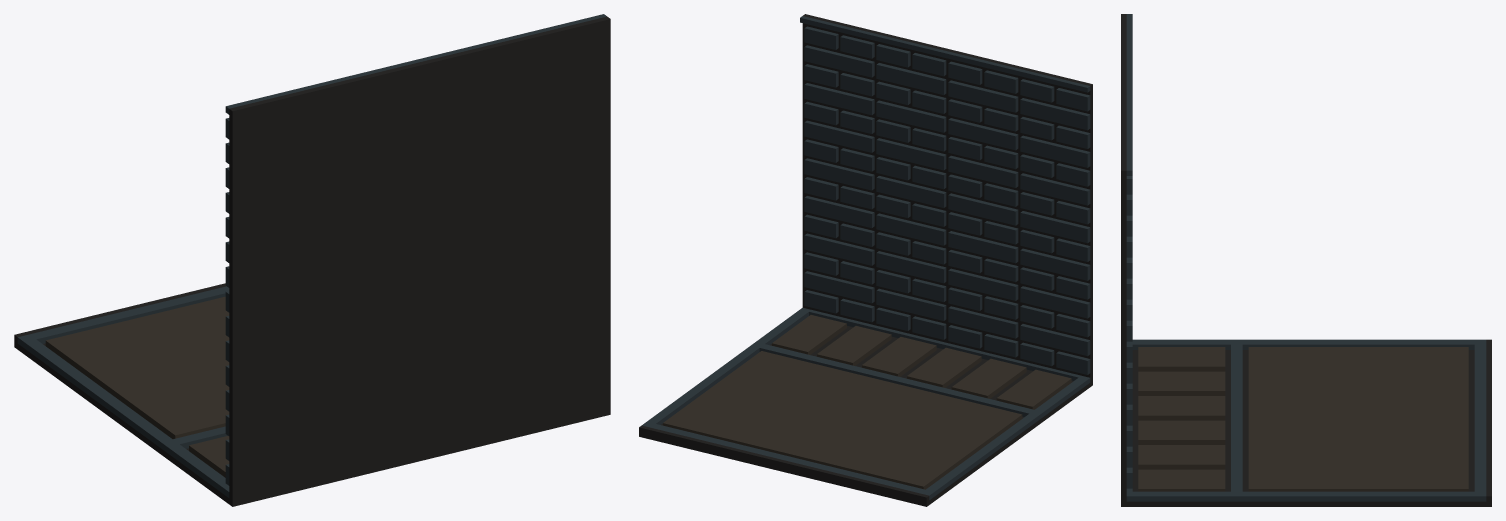
The model's file is corridor_point_wall.obj.
3 views of the same model, side by side, from view 1: azimuth 30°, elevation 25°; view 2: azimuth 150°, elevation 25°; view 3: azimuth 270°, elevation 25° (orthographic). The views are drawn at different scales.
Size of the model in its own units: 6.4 by 6.4 by 6.4.
1 material, 1 textured.
